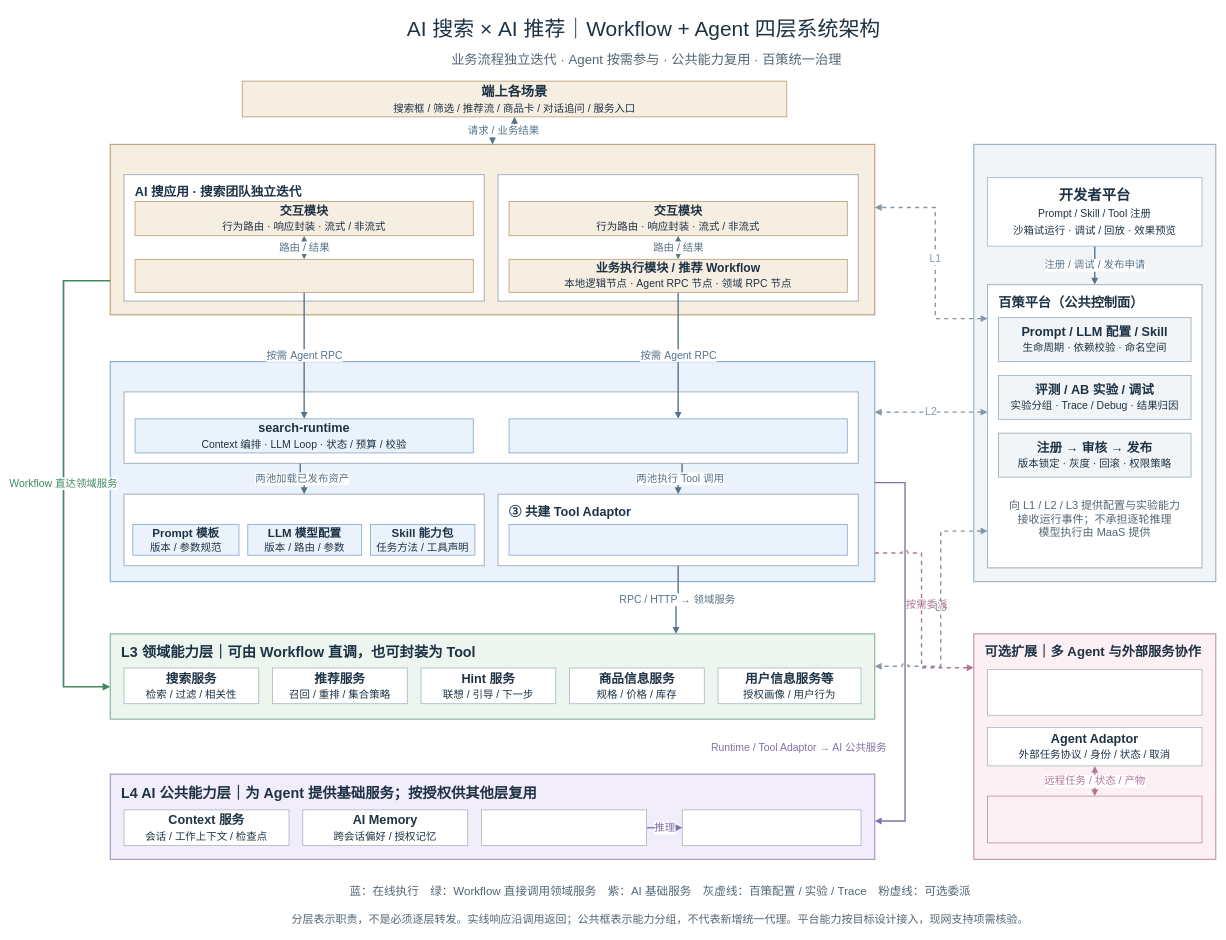
Some shapes in this 1226 by 940 pixel diagram are drawn without their labels. Here are the shapes that lost their labels. From the top down, the box of each, then its label:
(109, 144, 875, 315): L1 业务层｜两个应用，各自负责交互与 Workflow
(497, 174, 859, 301): AI 推应用 · 推荐团队独立迭代
(134, 259, 473, 292): 业务执行模块 / 搜索 Workflow 本地逻辑节点 · Agent RPC 节点 · 领域 RPC 节点
(973, 144, 1216, 582): 横向平台｜开发入口与生命周期治理
(123, 391, 859, 464): ① 各自的 Runtime · 独立任务池 / 发布 / 扩容
(508, 418, 847, 453): rec-runtime Context 编排 · LLM Loop · 状态 / 预算 / 校验
(109, 361, 875, 582): L2 Agent 层｜独立 Runtime + 公共资产 + 共建 Tool Adaptor
(123, 493, 485, 566): ② 公共 Prompt / LLM / Skill 资产
(508, 524, 847, 555): 公共 Tool Schema + 远程服务适配 参数转换 · 身份 / 权限 · 超时 / 错误 · 结果归一
(987, 669, 1202, 715): 受控子 Agent / 委派管理 局部循环 · 子预算 · 产物验收 可先同池运行，不强制新增微服务
(481, 809, 647, 846): RAG 服务 知识检索 / 证据 / 引用
(682, 809, 861, 846): MaaS 服务 LLM / Embedding / Reranker 推理
(987, 795, 1202, 843): 外部 Agent 下单 / 家政 / 外卖等 涉及交易须可信确认，不由模型授权
